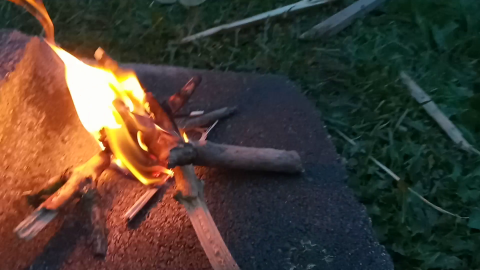fire: (16, 4, 203, 191)
